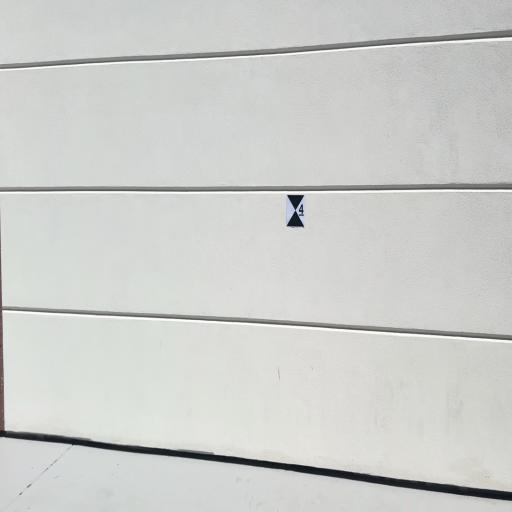target4: (287, 194, 306, 228)
